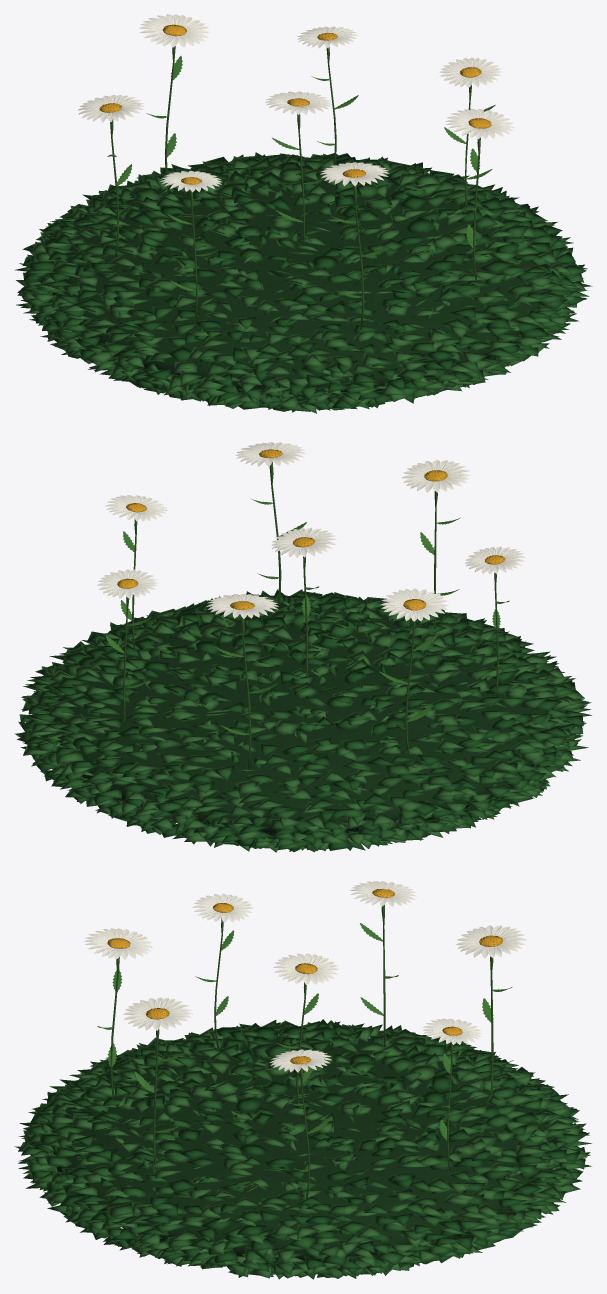
File: Daisy_Bed_Round.fbx
The picture shows the model from 3 angles, top to bottom: view 1: azimuth 30°, elevation 25°; view 2: azimuth 150°, elevation 25°; view 3: azimuth 270°, elevation 25°; orthographic projection.
Parts seen in each view (by area): view 1: Daisy_Bed_Round; view 2: Daisy_Bed_Round; view 3: Daisy_Bed_Round.
Boxes of the visible parts, x1,y1,x2,y2 form: Daisy_Bed_Round: (14,14,592,413); Daisy_Bed_Round: (15,442,591,852); Daisy_Bed_Round: (14,881,591,1279).
Size of the model in its own units: 0.82 by 0.38 by 0.82.
8 materials, 8 textured.
